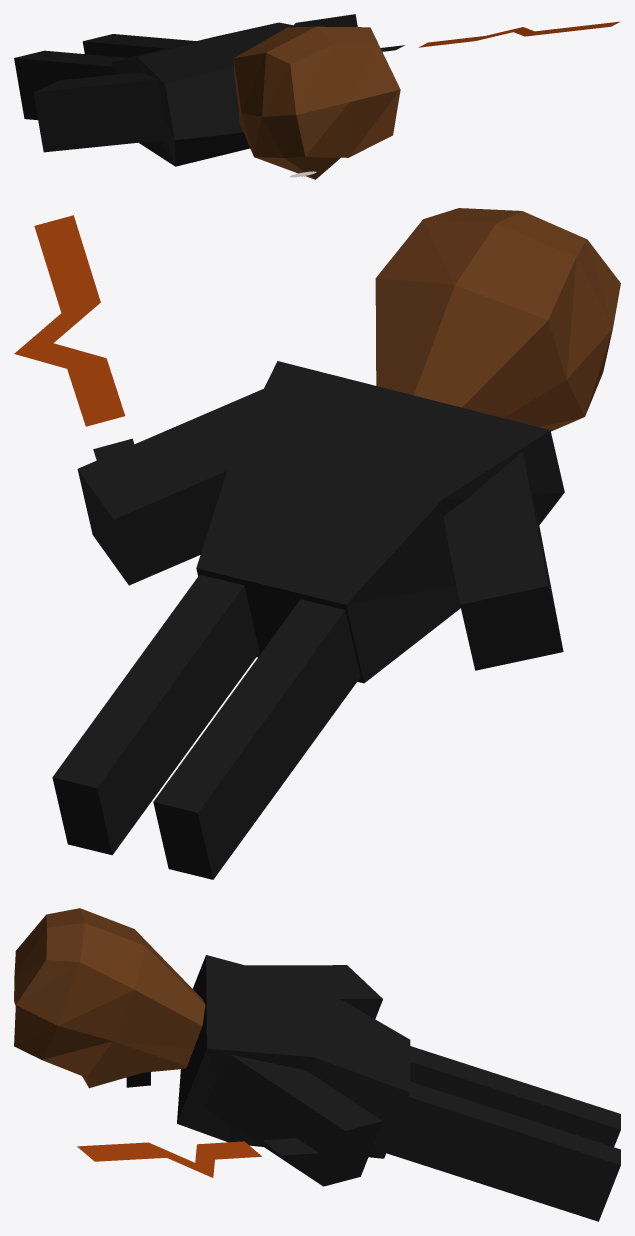
File: swordsman2d.obj
3 views of the same model, one above another, from view 1: azimuth 30°, elevation 25°; view 2: azimuth 150°, elevation 25°; view 3: azimuth 270°, elevation 25° (orthographic). The views are drawn at different scales.
Visible parts, largest first — view 1: Cube, Cube.001, Cube.003, Cube.004, Cube.005, Plane.003_Plane.004, Cube.002; view 2: Cube.001, Cube, Cube.004, Cube.005, Cube.002, Cube.003, Plane.003_Plane.004; view 3: Cube, Cube.001, Cube.005, Cube.002, Cube.004, Plane.003_Plane.004, Cube.003, Plane.001_Plane.002.
Part boxes in pixels (x1,y1,x2,y2): Cube: (233, 26, 400, 179); Cube.001: (111, 22, 301, 166); Cube.003: (33, 72, 171, 152); Cube.004: (14, 50, 126, 120); Cube.005: (82, 34, 196, 57); Plane.003_Plane.004: (419, 21, 619, 47); Cube.002: (294, 14, 357, 26); Cube.001: (196, 361, 564, 683); Cube: (375, 208, 620, 431); Cube.004: (153, 599, 360, 879); Cube.005: (52, 574, 259, 855); Cube.002: (77, 389, 263, 585); Cube.003: (443, 452, 563, 670); Plane.003_Plane.004: (14, 215, 125, 426); Cube: (14, 908, 205, 1088); Cube.001: (177, 955, 410, 1158); Cube.005: (386, 1081, 620, 1221); Cube.002: (204, 1054, 382, 1186); Cube.004: (410, 1046, 620, 1146); Plane.003_Plane.004: (77, 1141, 261, 1177); Cube.003: (246, 965, 382, 1018); Plane.001_Plane.002: (263, 1138, 318, 1155).
Size of the model in its own units: 5.33 by 2.8 by 5.63.
